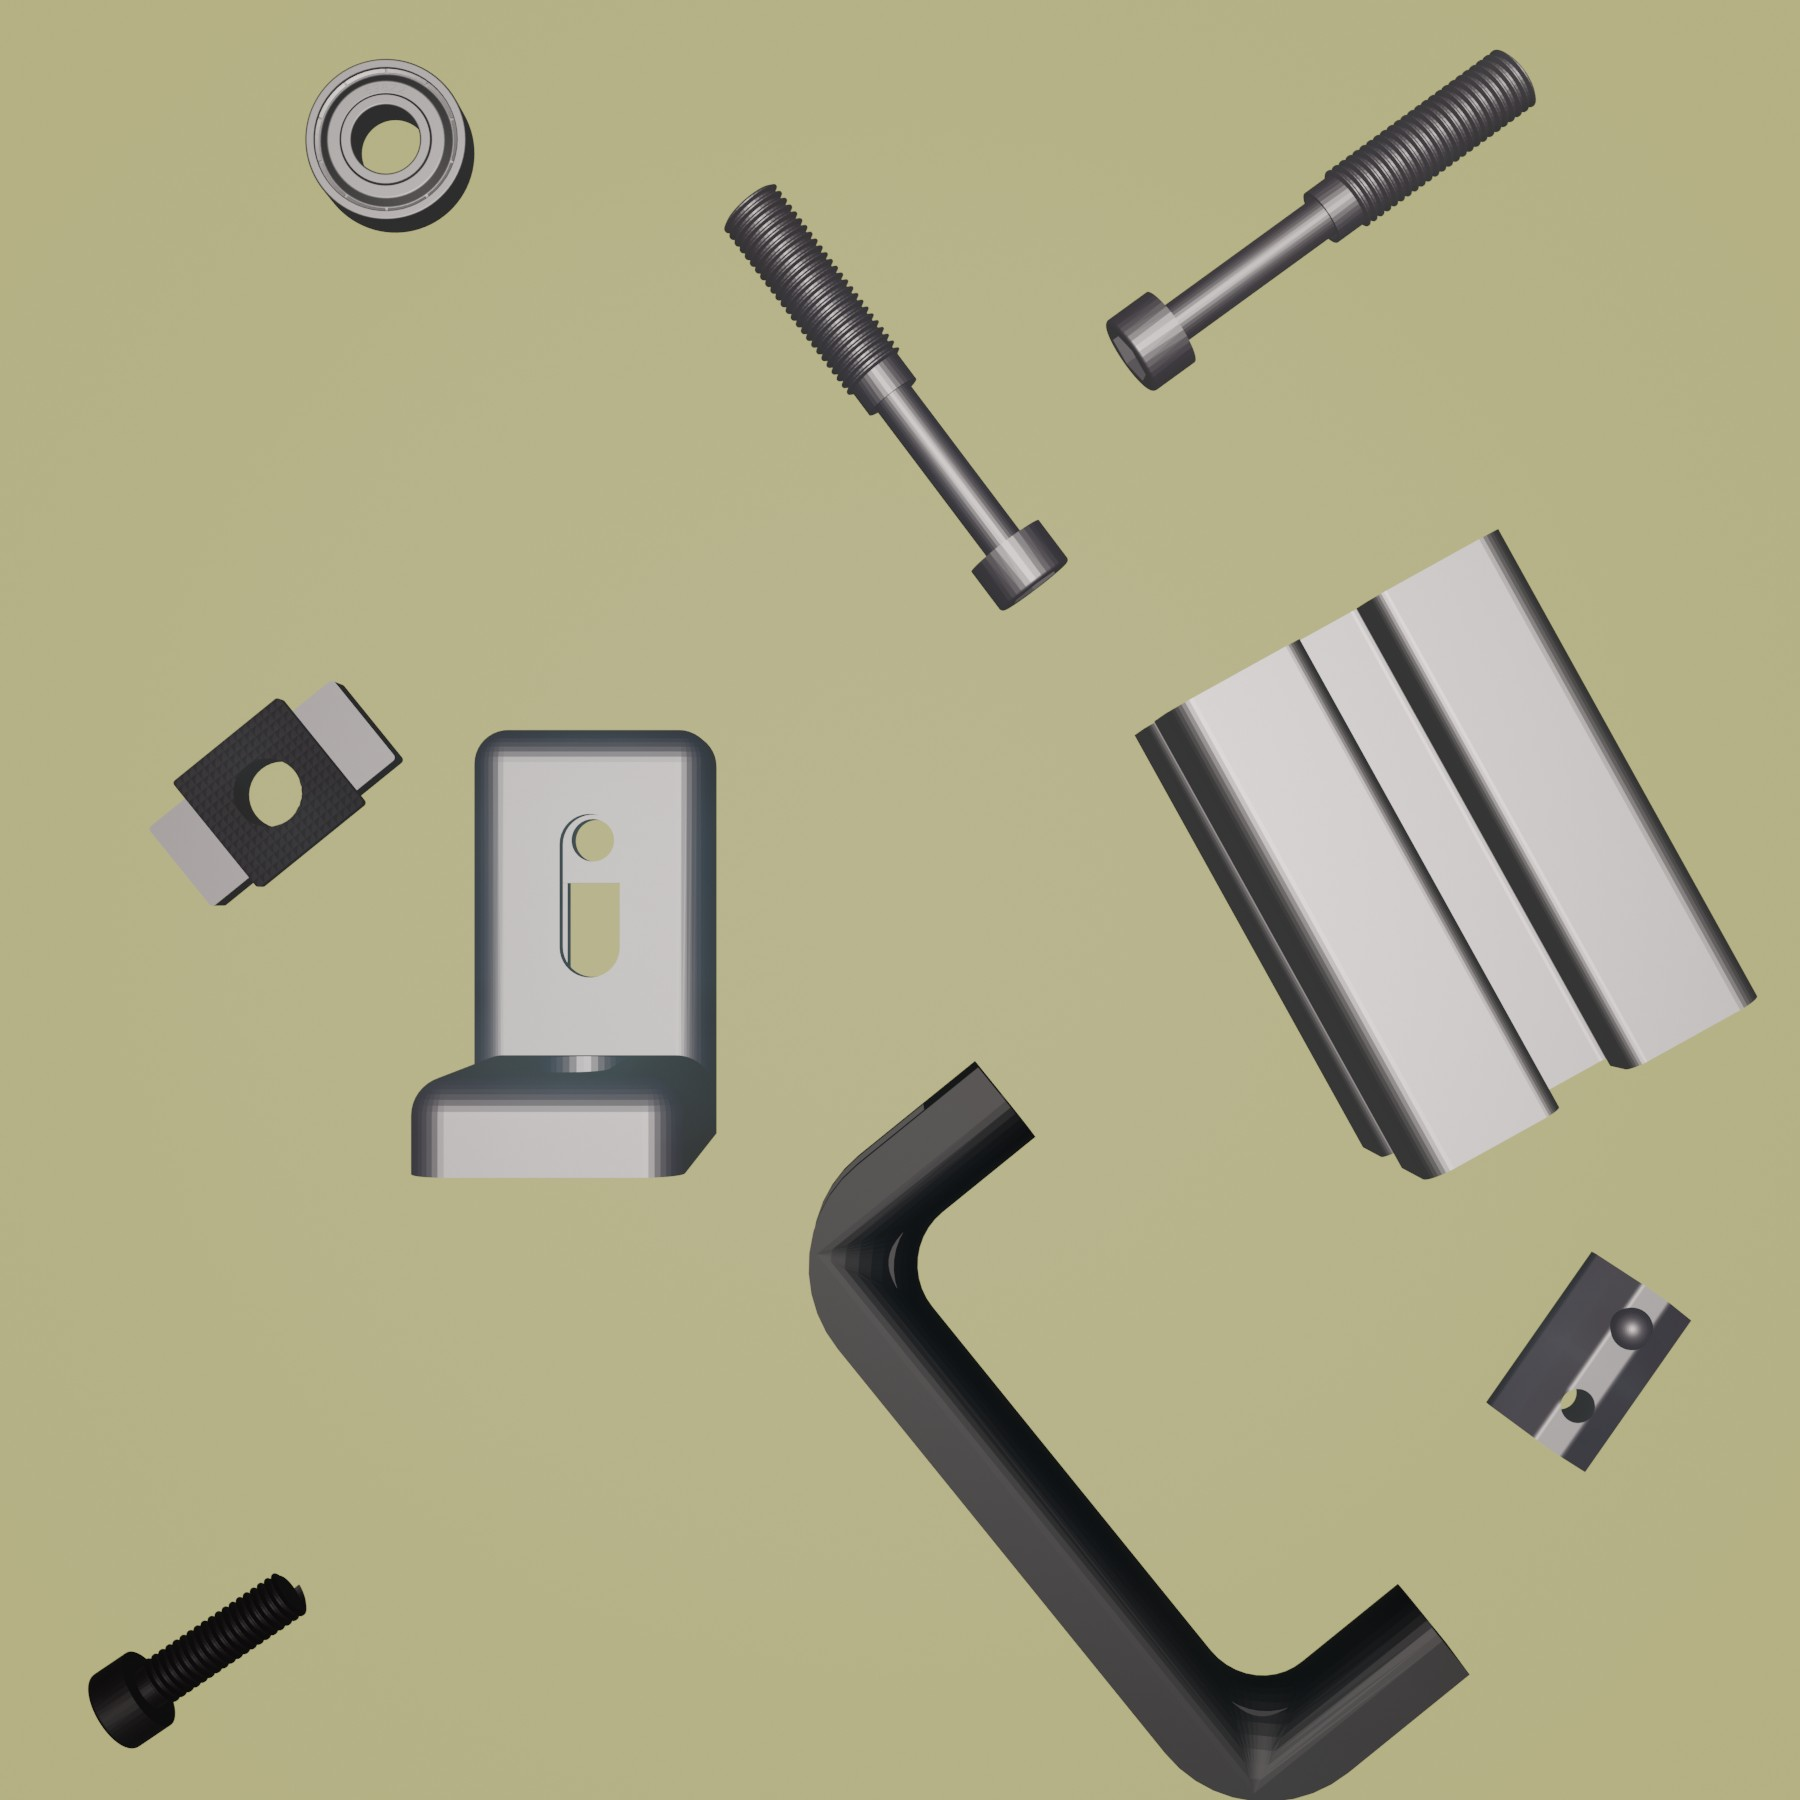Aluminium Extension: (1132, 526, 1760, 1182)
Ball Bearing: (302, 54, 476, 234)
Multiwinkel: (409, 724, 720, 1185)
Pull Handle: (806, 1058, 1470, 1800)
Shoulder Socket Head Cap Screw: (1101, 45, 1540, 392), (720, 181, 1071, 613)
Socket Head Cap Screw: (87, 1569, 308, 1751)
T Nut Square: (147, 677, 404, 912)
T Spring Nut: (1484, 1248, 1695, 1474)
